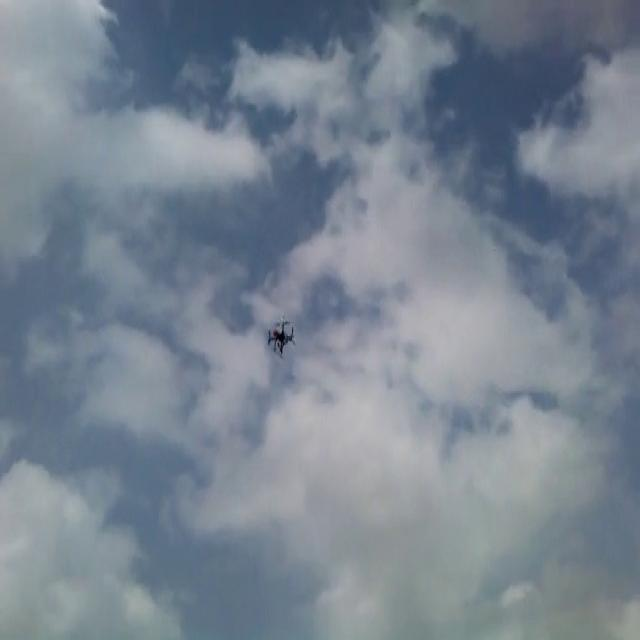drone: (265, 312, 295, 358)
